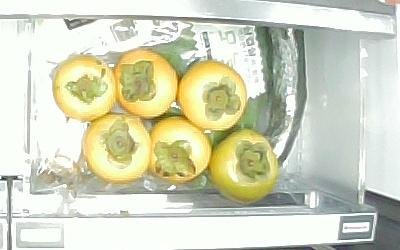persimmon: (211, 129, 279, 205), (178, 61, 247, 132), (83, 113, 152, 183), (148, 116, 212, 183), (116, 50, 177, 119), (53, 57, 115, 121)
